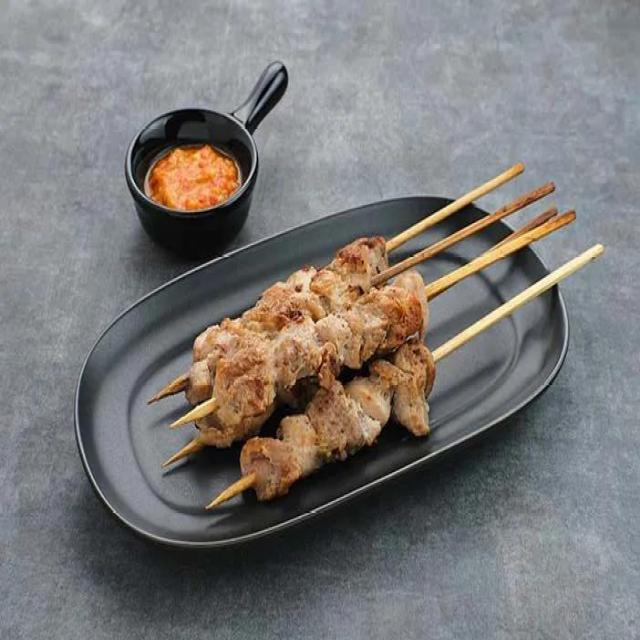Sate: (185, 135, 625, 525)
